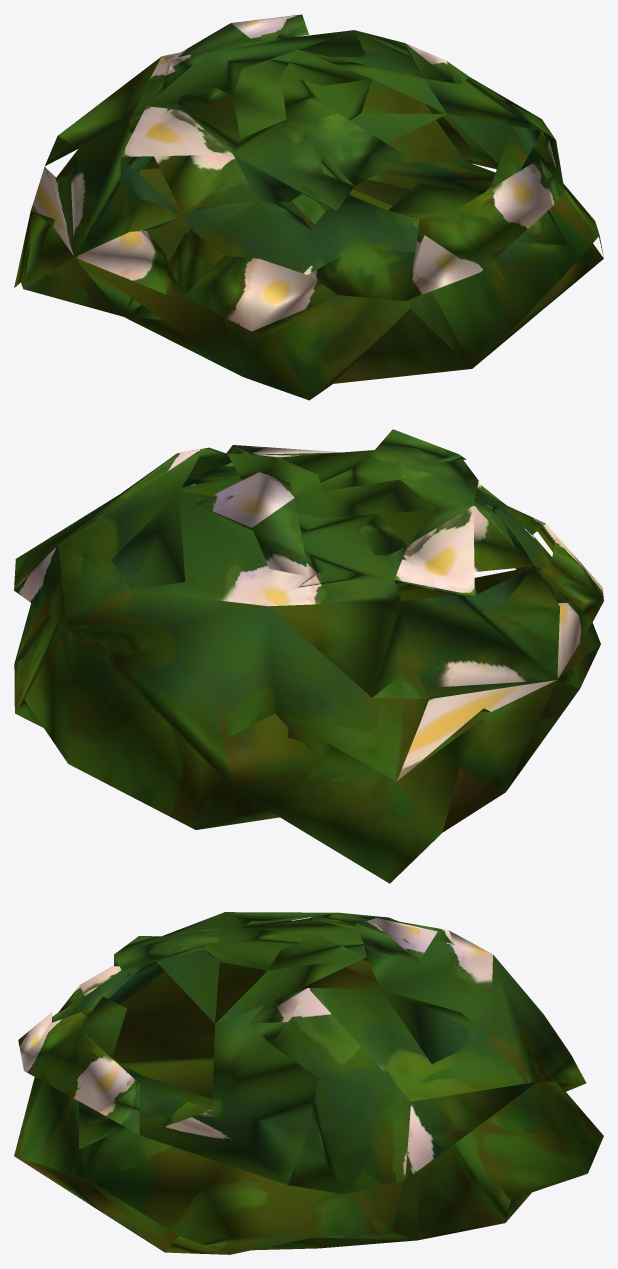
Rendered from bush.glb.
The picture shows the model from 3 angles, top to bottom: view 1: azimuth 30°, elevation 25°; view 2: azimuth 150°, elevation 25°; view 3: azimuth 270°, elevation 25°; orthographic projection. The views are drawn at different scales.
Visible parts, largest first — view 1: geometry_0; view 2: geometry_0; view 3: geometry_0.
Part boxes in pixels (x1,y1,x2,y2): geometry_0: (14, 14, 603, 400); geometry_0: (14, 429, 603, 883); geometry_0: (14, 912, 603, 1254).
Bounding box in the file's own units: 2.01 × 1.1 × 2.07.
Materials: 1 (1 with a texture image).
